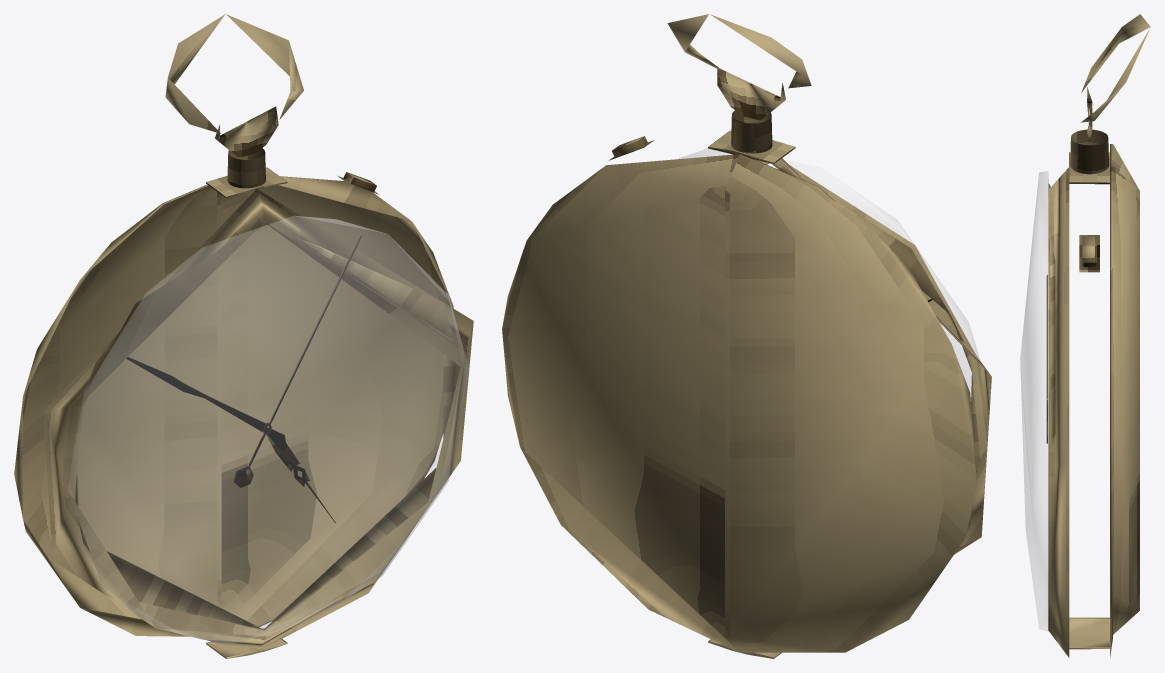
Rendered from pocket_watch.glb.
3 views of the same model, side by side, from view 1: azimuth 30°, elevation 25°; view 2: azimuth 150°, elevation 25°; view 3: azimuth 270°, elevation 25° (orthographic). The views are drawn at different scales.
Parts seen in each view (by area): view 1: pocket_watch_frame, pocket_watch_ring, pocket_watch_hand_secondes, pocket_watch_hand_minutes, pocket_watch_hand_hours; view 2: pocket_watch_frame, pocket_watch_ring; view 3: pocket_watch_frame, pocket_watch_ring, pocket_watch_button, pocket_watch_hand_secondes.
Boxes of the visible parts, bbox=[...] form: pocket_watch_frame: bbox=[14, 106, 473, 658]; pocket_watch_ring: bbox=[165, 14, 303, 133]; pocket_watch_hand_secondes: bbox=[234, 235, 361, 487]; pocket_watch_hand_minutes: bbox=[126, 357, 272, 433]; pocket_watch_hand_hours: bbox=[266, 429, 335, 523]; pocket_watch_frame: bbox=[502, 67, 991, 658]; pocket_watch_ring: bbox=[667, 14, 811, 88]; pocket_watch_frame: bbox=[1020, 87, 1139, 657]; pocket_watch_ring: bbox=[1081, 14, 1150, 122]; pocket_watch_button: bbox=[1079, 235, 1099, 272]; pocket_watch_hand_secondes: bbox=[1046, 274, 1047, 443].
Size of the model in its own units: 0.0575 by 0.0755 by 0.0146.
2 materials, 1 textured.
